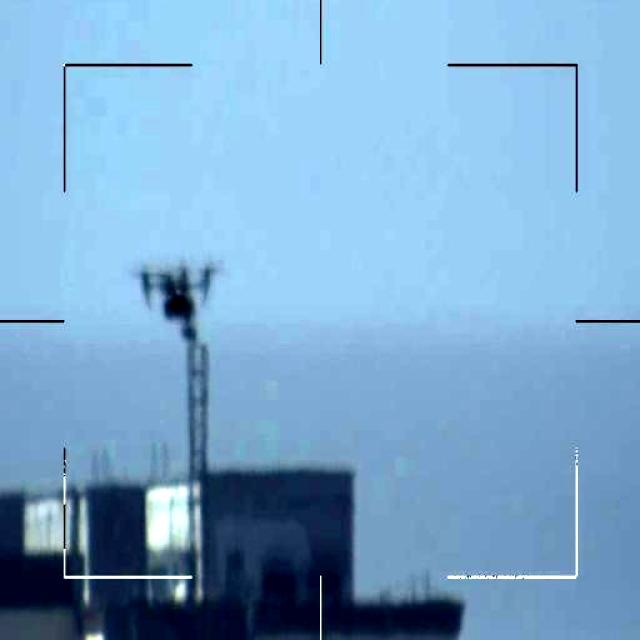bird: (136, 256, 216, 348)
